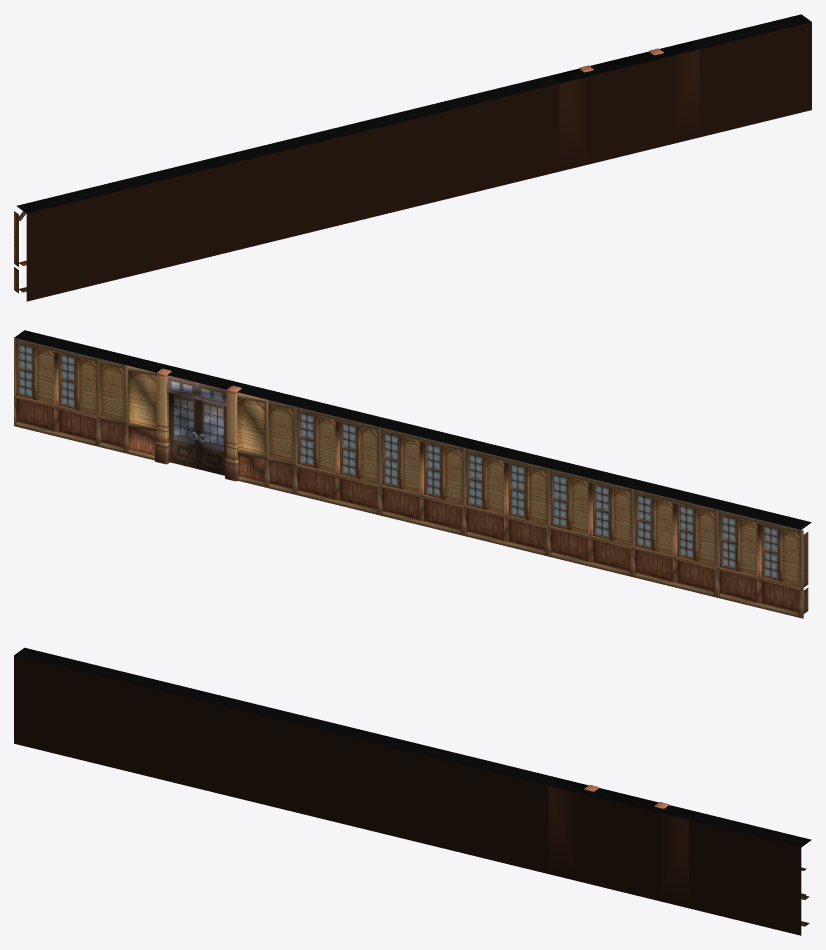
Rendered from s_SWGclass01a_3.glb.
3 renders of one model, top to bottom at view 1: azimuth 30°, elevation 25°; view 2: azimuth 150°, elevation 25°; view 3: azimuth 330°, elevation 25°, orthographic.
Parts seen in each view (by area): view 1: s_SWGclass01a_3; view 2: s_SWGclass01a_3; view 3: s_SWGclass01a_3.
Part boxes in pixels (x1,y1,x2,y2): s_SWGclass01a_3: (14, 14, 811, 301); s_SWGclass01a_3: (14, 330, 811, 618); s_SWGclass01a_3: (14, 647, 811, 935).
Size of the model in its own units: 28.08 by 3.03 by 0.724.
4 materials, 4 textured.
